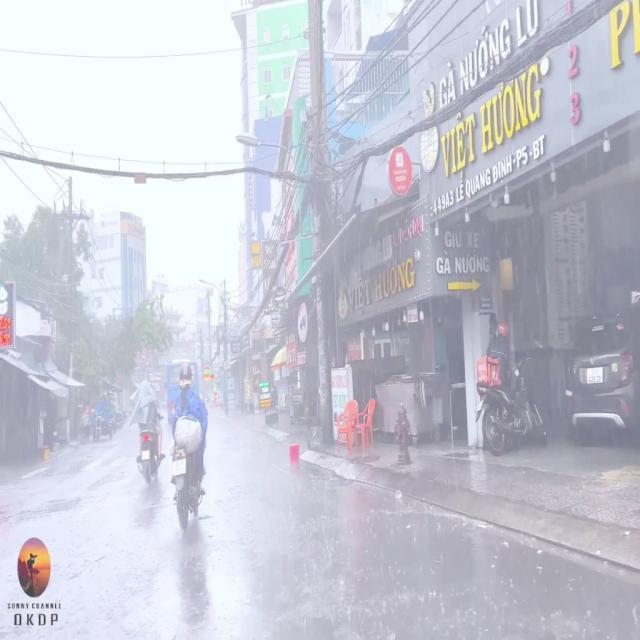106-cam-oto-tai: (296, 300, 309, 344)
